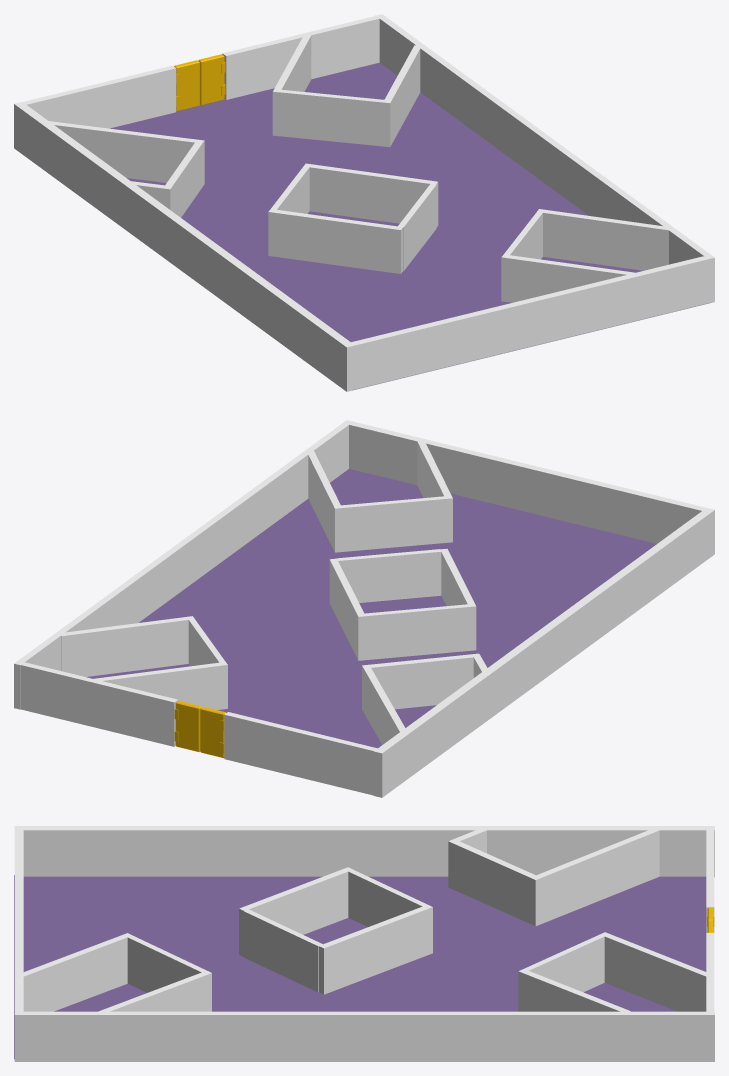
The model's file is maps_82.fbx.
3 renders of one model, top to bottom at view 1: azimuth 30°, elevation 25°; view 2: azimuth 150°, elevation 25°; view 3: azimuth 270°, elevation 25°, orthographic. The views are drawn at different scales.
Parts seen in each view (by area): view 1: wall_01_08_geo, wall_01_07_geo, wall_01_05_geo, wall_01_06_geo, wall_01_09_geo1, polySurface175, polySurface182, wall_01_09_geo, polySurface174, polySurface178, polySurface170, polySurface180 (+8 smaller); view 2: wall_01_08_geo, wall_01_07_geo, wall_01_05_geo, wall_01_06_geo, wall_01_09_geo1, wall_01_09_geo, polySurface177, polySurface181, polySurface173, polySurface176, polySurface171, polySurface179 (+8 smaller); view 3: wall_01_08_geo, wall_01_06_geo, wall_01_07_geo, polySurface170, polySurface174, polySurface180, polySurface179, polySurface175, polySurface171, polySurface176, polySurface178, polySurface177 (+7 smaller).
Boxes of the visible parts, x1=… form: wall_01_08_geo: x1=110, y1=62, x2=710, y2=390; wall_01_07_geo: x1=14, y1=102, x2=354, y2=391; wall_01_05_geo: x1=351, y1=256, x2=708, y2=389; wall_01_06_geo: x1=376, y1=14, x2=714, y2=303; wall_01_09_geo1: x1=222, y1=16, x2=379, y2=99; polySurface175: x1=268, y1=209, x2=402, y2=273; polySurface182: x1=537, y1=209, x2=670, y2=270; wall_01_09_geo: x1=23, y1=65, x2=176, y2=128; polySurface174: x1=303, y1=163, x2=438, y2=226; polySurface178: x1=280, y1=89, x2=383, y2=146; polySurface170: x1=46, y1=121, x2=204, y2=186; polySurface180: x1=501, y1=254, x2=635, y2=302; wall_01_08_geo: x1=86, y1=469, x2=656, y2=748; wall_01_07_geo: x1=373, y1=508, x2=714, y2=797; wall_01_05_geo: x1=349, y1=421, x2=706, y2=543; wall_01_06_geo: x1=14, y1=420, x2=352, y2=709; wall_01_09_geo1: x1=21, y1=662, x2=178, y2=746; wall_01_09_geo: x1=224, y1=712, x2=377, y2=795; polySurface177: x1=60, y1=616, x2=194, y2=676; polySurface181: x1=341, y1=496, x2=445, y2=551; polySurface173: x1=365, y1=604, x2=468, y2=659; polySurface176: x1=336, y1=549, x2=441, y2=602; polySurface171: x1=369, y1=654, x2=473, y2=709; polySurface179: x1=94, y1=662, x2=227, y2=709; wall_01_08_geo: x1=14, y1=875, x2=706, y2=1059; wall_01_06_geo: x1=14, y1=1011, x2=714, y2=1061; wall_01_07_geo: x1=14, y1=826, x2=714, y2=877; polySurface170: x1=530, y1=827, x2=659, y2=926; polySurface174: x1=319, y1=904, x2=432, y2=994; polySurface180: x1=20, y1=933, x2=132, y2=1011; polySurface179: x1=600, y1=932, x2=711, y2=1011; polySurface175: x1=239, y1=867, x2=352, y2=956; polySurface171: x1=453, y1=841, x2=535, y2=923; polySurface176: x1=243, y1=909, x2=322, y2=992; polySurface178: x1=524, y1=934, x2=604, y2=992; polySurface177: x1=518, y1=969, x2=630, y2=1013.
Size of the model in its own units: 76.85 by 8.89 by 120.
Materials: 2 (2 with a texture image).
